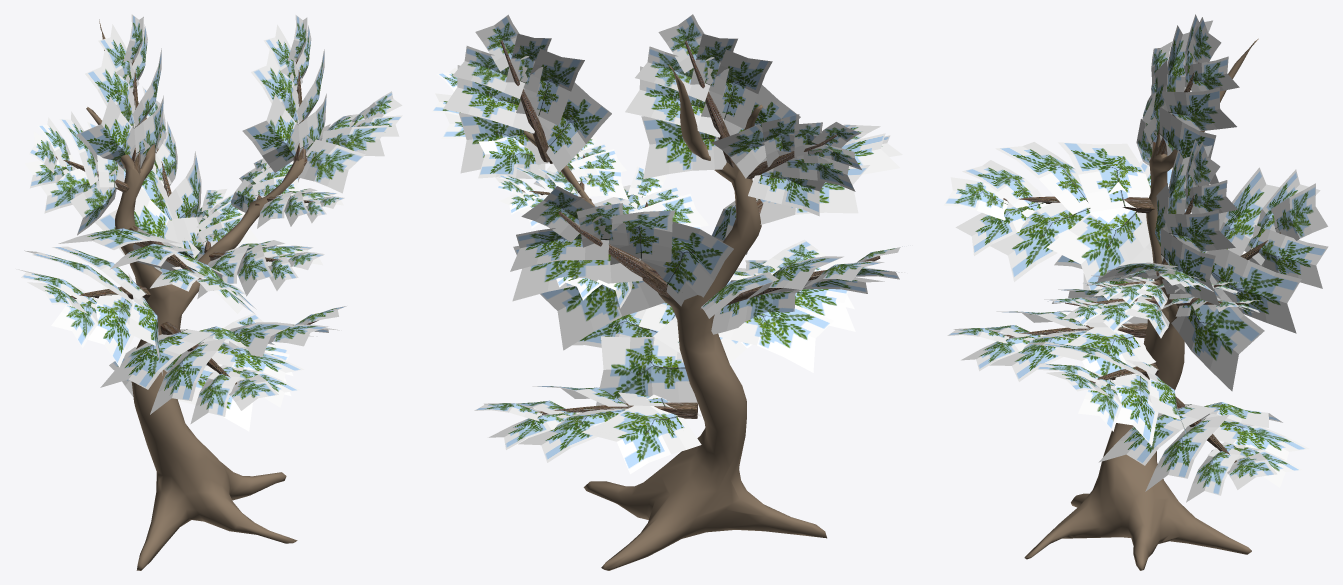
The model's file is arbol_lowpoly_version2.fbx.
3 renders of one model, left to right at view 1: azimuth 30°, elevation 25°; view 2: azimuth 150°, elevation 25°; view 3: azimuth 270°, elevation 25°, orthographic. The views are drawn at different scales.
Parts seen in each view (by area): view 1: Cube, Cylinder.004, Cylinder.013, Cylinder.008, Cylinder.011, Cylinder.007, Cylinder.012, Cylinder.002, Cylinder, Cylinder.001, Cylinder.009, Cylinder.006 (+3 smaller); view 2: Cube, Cylinder.012, Cylinder.011, Cylinder.008, Cylinder.010, Cylinder.007, Cylinder.009, Cylinder.004, Cylinder.013, Cylinder, Cylinder.002, Cylinder.001 (+3 smaller); view 3: Cylinder, Cylinder.012, Cube, Cylinder.010, Cylinder.008, Cylinder.011, Cylinder.004, Cylinder.009, Cylinder.001, Cylinder.002, Cylinder.007, Cylinder.003 (+2 smaller).
Boxes of the visible parts, x1=… form: Cube: x1=86, y1=19, x2=306, y2=570; Cylinder.004: x1=100, y1=321, x2=303, y2=424; Cylinder.013: x1=16, y1=246, x2=162, y2=375; Cylinder.008: x1=76, y1=14, x2=163, y2=174; Cylinder.011: x1=242, y1=15, x2=326, y2=172; Cylinder.007: x1=25, y1=111, x2=129, y2=235; Cylinder.012: x1=94, y1=86, x2=213, y2=290; Cylinder.002: x1=298, y1=91, x2=402, y2=193; Cylinder: x1=58, y1=225, x2=256, y2=314; Cylinder.001: x1=197, y1=240, x2=324, y2=298; Cylinder.009: x1=164, y1=306, x2=346, y2=372; Cylinder.006: x1=195, y1=189, x2=257, y2=260; Cube: x1=524, y1=64, x2=826, y2=570; Cylinder.012: x1=510, y1=186, x2=733, y2=350; Cylinder.011: x1=443, y1=14, x2=611, y2=173; Cylinder.008: x1=625, y1=14, x2=800, y2=179; Cylinder.010: x1=474, y1=386, x2=701, y2=474; Cylinder.007: x1=711, y1=114, x2=861, y2=216; Cylinder.009: x1=572, y1=274, x2=752, y2=405; Cylinder.004: x1=675, y1=239, x2=855, y2=372; Cylinder.013: x1=700, y1=246, x2=904, y2=334; Cylinder: x1=711, y1=124, x2=902, y2=254; Cylinder.002: x1=431, y1=68, x2=552, y2=178; Cylinder.001: x1=594, y1=166, x2=709, y2=229; Cylinder: x1=943, y1=142, x2=1154, y2=297; Cylinder.012: x1=1171, y1=167, x2=1328, y2=391; Cube: x1=1024, y1=38, x2=1258, y2=570; Cylinder.010: x1=1098, y1=397, x2=1309, y2=502; Cylinder.008: x1=1153, y1=14, x2=1239, y2=184; Cylinder.011: x1=1155, y1=139, x2=1237, y2=306; Cylinder.004: x1=947, y1=310, x2=1155, y2=381; Cylinder.009: x1=1029, y1=334, x2=1186, y2=445; Cylinder.001: x1=1044, y1=289, x2=1169, y2=338; Cylinder.002: x1=1095, y1=262, x2=1220, y2=298; Cylinder.007: x1=1136, y1=41, x2=1185, y2=165; Cylinder.003: x1=1083, y1=275, x2=1167, y2=309.
Size of the model in its own units: 1406 by 1726 by 1168.
Materials: 2 (2 with a texture image).
